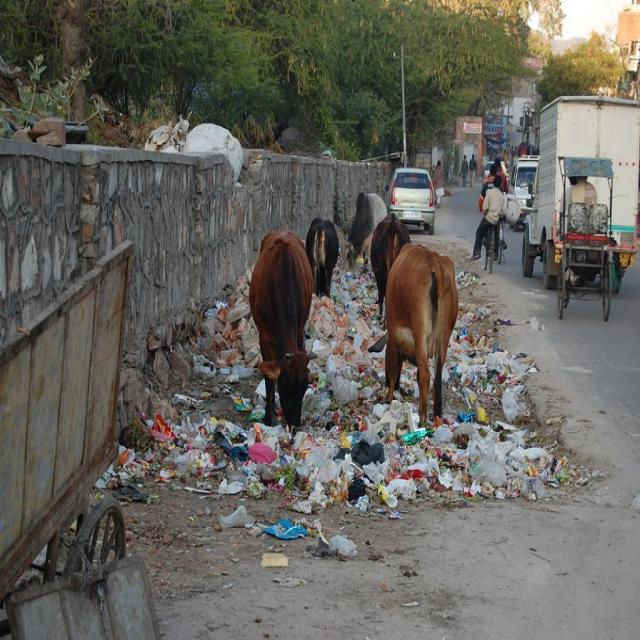garbage: (101, 255, 613, 640)
